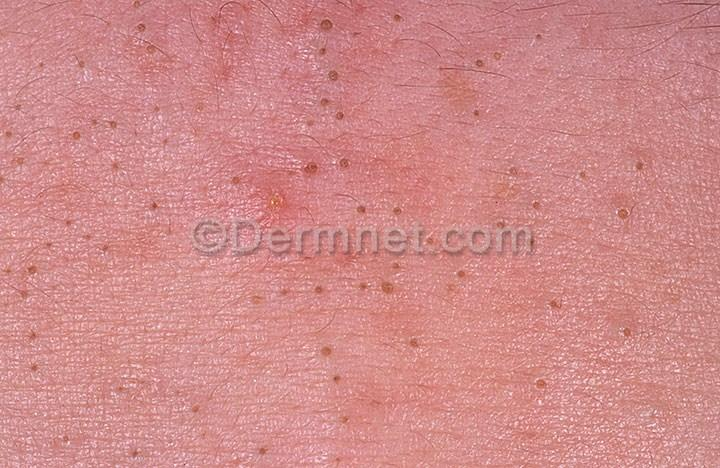Acne: (294, 4, 358, 91), (321, 376, 380, 466), (127, 16, 186, 98), (361, 262, 431, 320), (234, 169, 298, 229)
